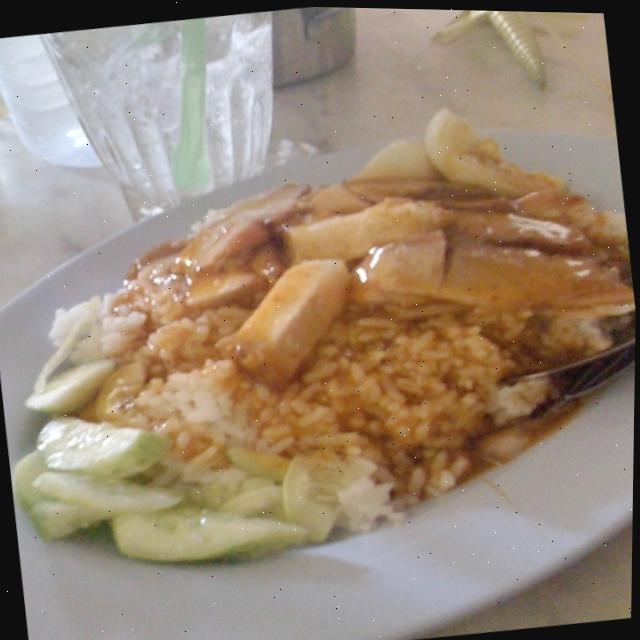猪肉菜式: (0, 85, 639, 607)
